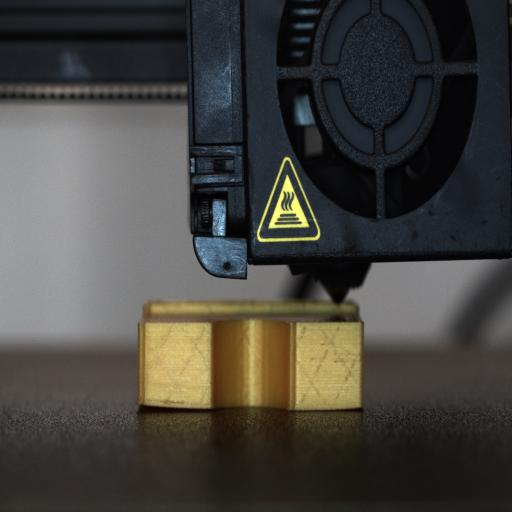warp: (129, 392, 196, 412), (341, 400, 367, 418)
